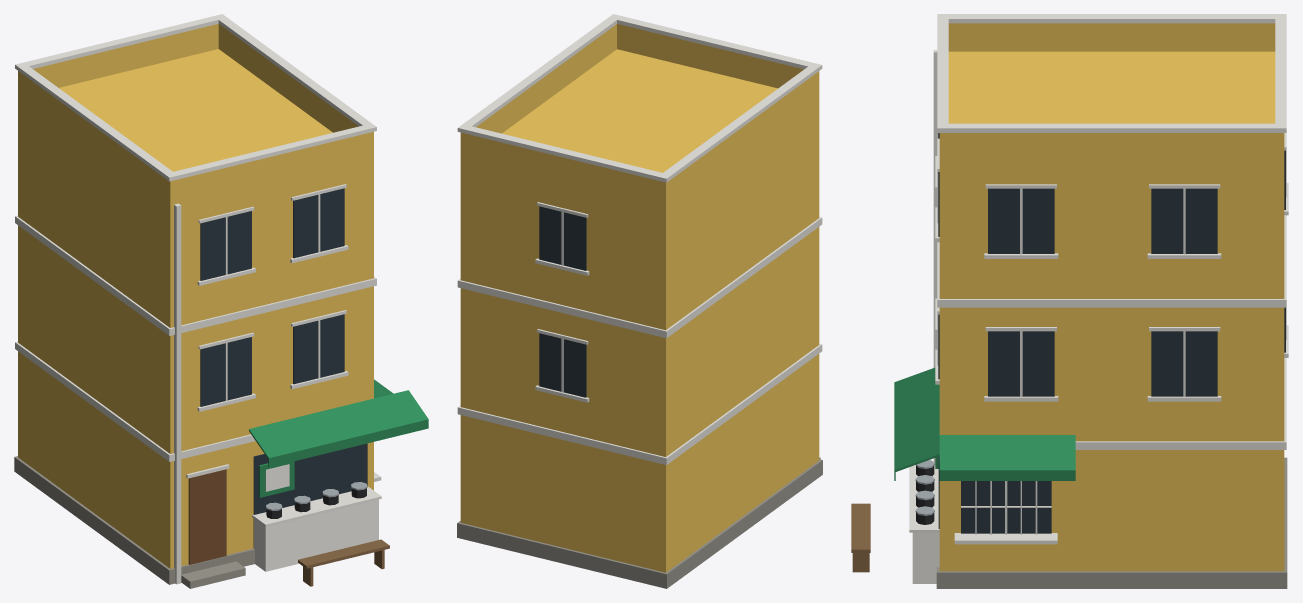
File: BAY_F_Corner_D.glb
3 renders of one model, left to right at view 1: azimuth 30°, elevation 25°; view 2: azimuth 150°, elevation 25°; view 3: azimuth 270°, elevation 25°, orthographic. The views are drawn at different scales.
Visible parts, largest first — view 1: BAY_F_Corner_D; view 2: BAY_F_Corner_D; view 3: BAY_F_Corner_D.
Part boxes in pixels (x1,y1,x2,y2): BAY_F_Corner_D: [14, 14, 428, 588]; BAY_F_Corner_D: [457, 14, 822, 588]; BAY_F_Corner_D: [851, 14, 1288, 588].
Bounding box in the file's own units: 5.2 × 8.4 × 7.23.
1 material, 1 textured.
